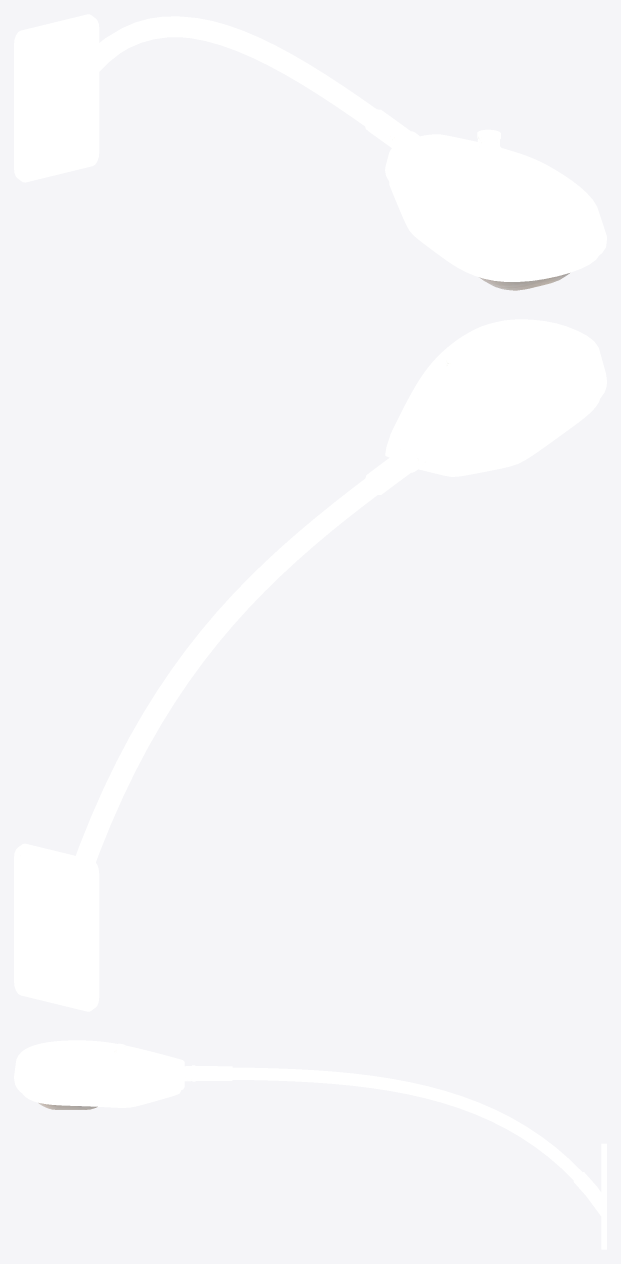
Rendered from E_stl_Sample.fbx.
3 renders of one model, top to bottom at view 1: azimuth 30°, elevation 25°; view 2: azimuth 150°, elevation 25°; view 3: azimuth 270°, elevation 25°, orthographic. The views are drawn at different scales.
Visible parts, largest first — view 1: E_stl_Sample; view 2: E_stl_Sample; view 3: E_stl_Sample.
Part boxes in pixels (bbox=[...]): E_stl_Sample: bbox=[14, 14, 606, 290]; E_stl_Sample: bbox=[14, 319, 606, 1011]; E_stl_Sample: bbox=[14, 1040, 606, 1249].
Size of the model in its own units: 30.5 by 70.7 by 192.
2 materials, 2 textured.
